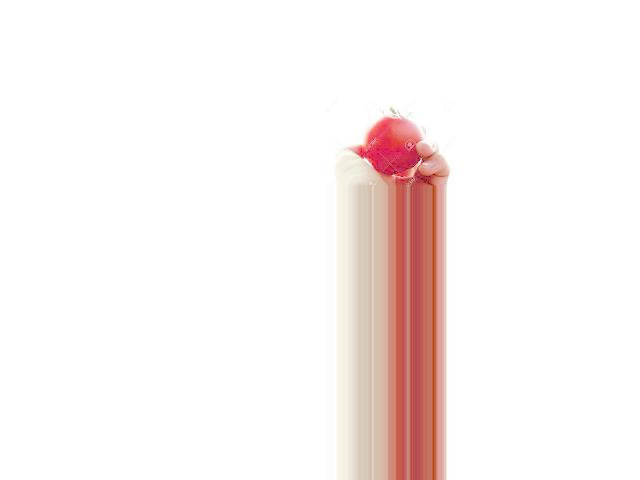tomato: (363, 113, 426, 174)
